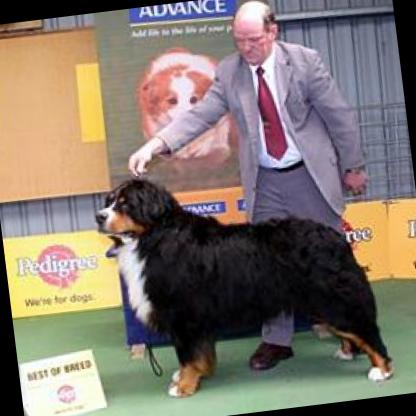Bernese_mountain_dog: (84, 147, 396, 413)
